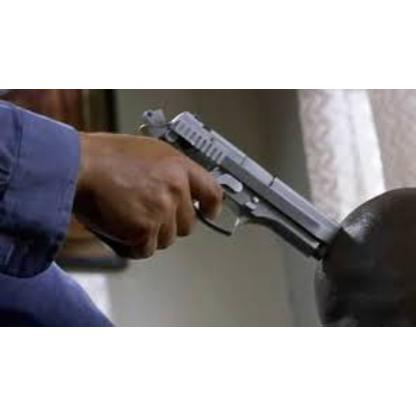gun: (118, 102, 346, 278)
